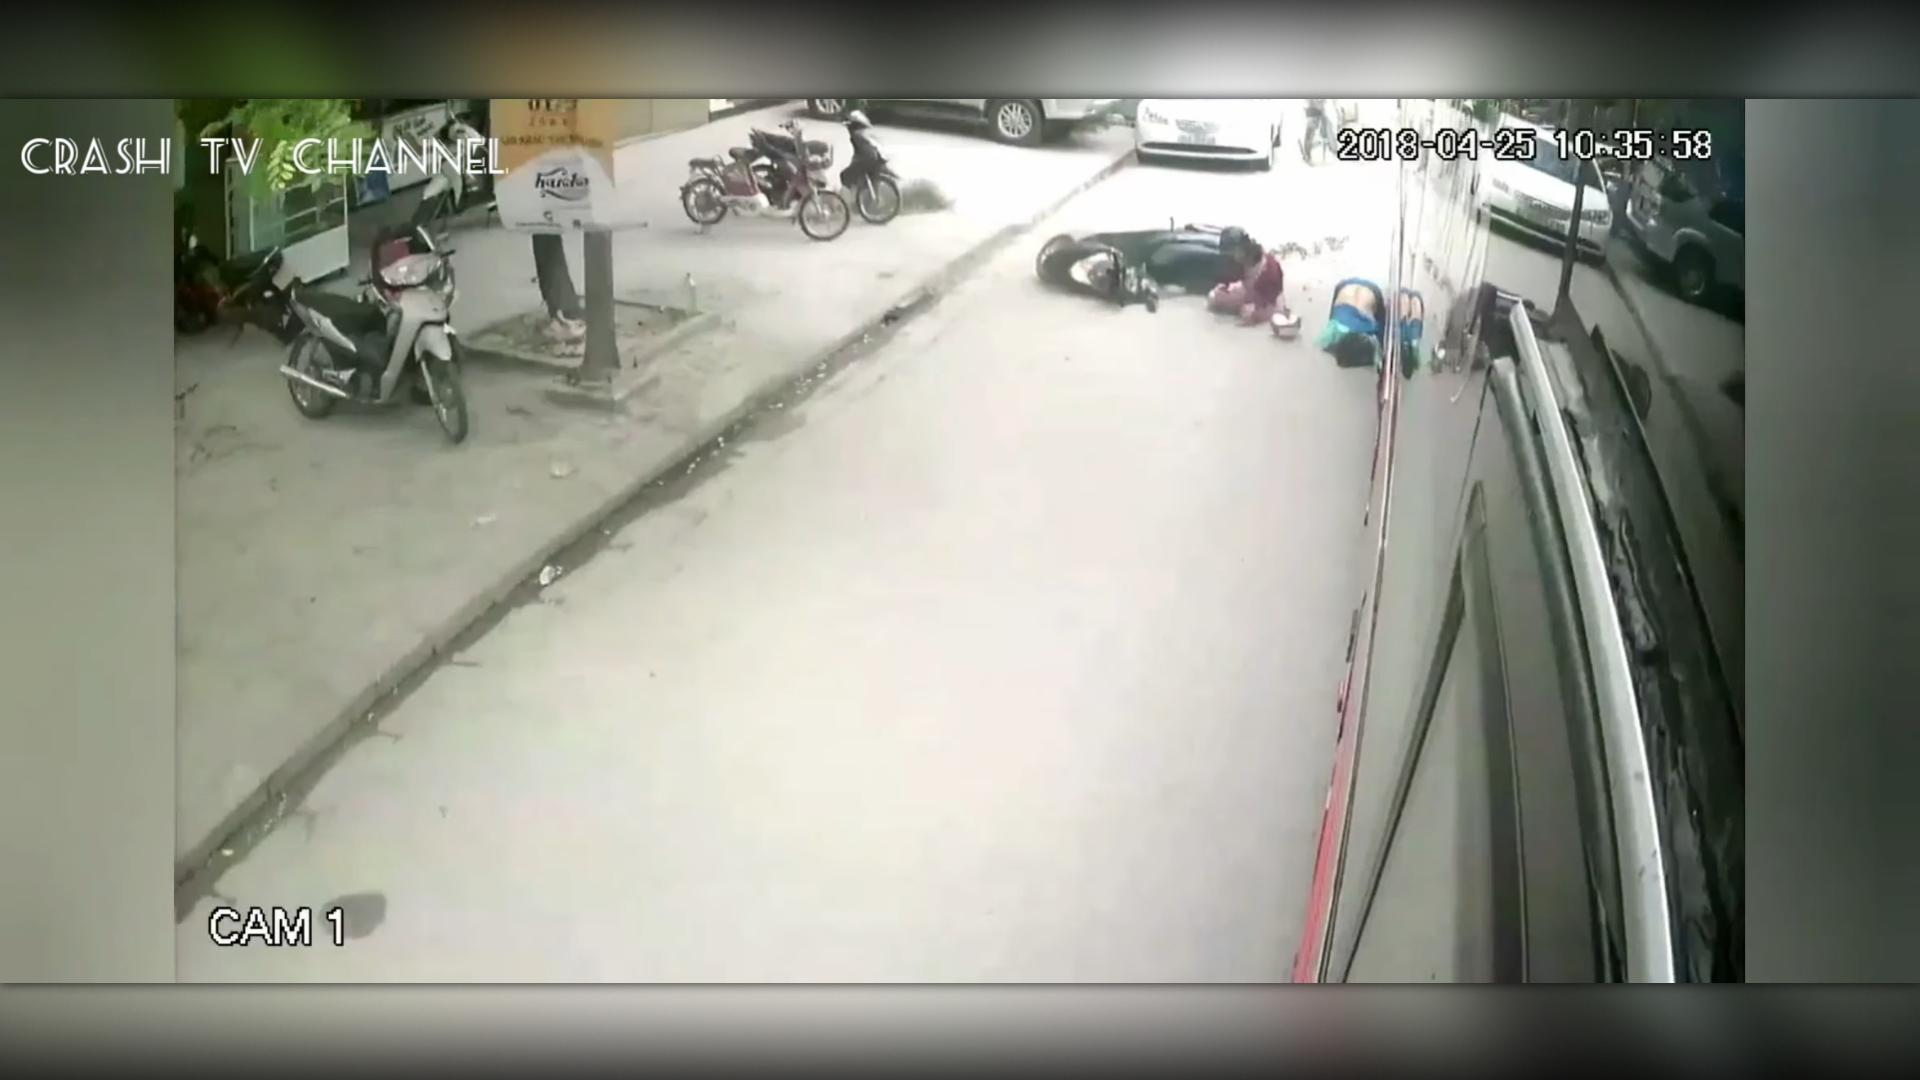accident: (1023, 200, 1415, 390), (1031, 222, 1302, 332)
